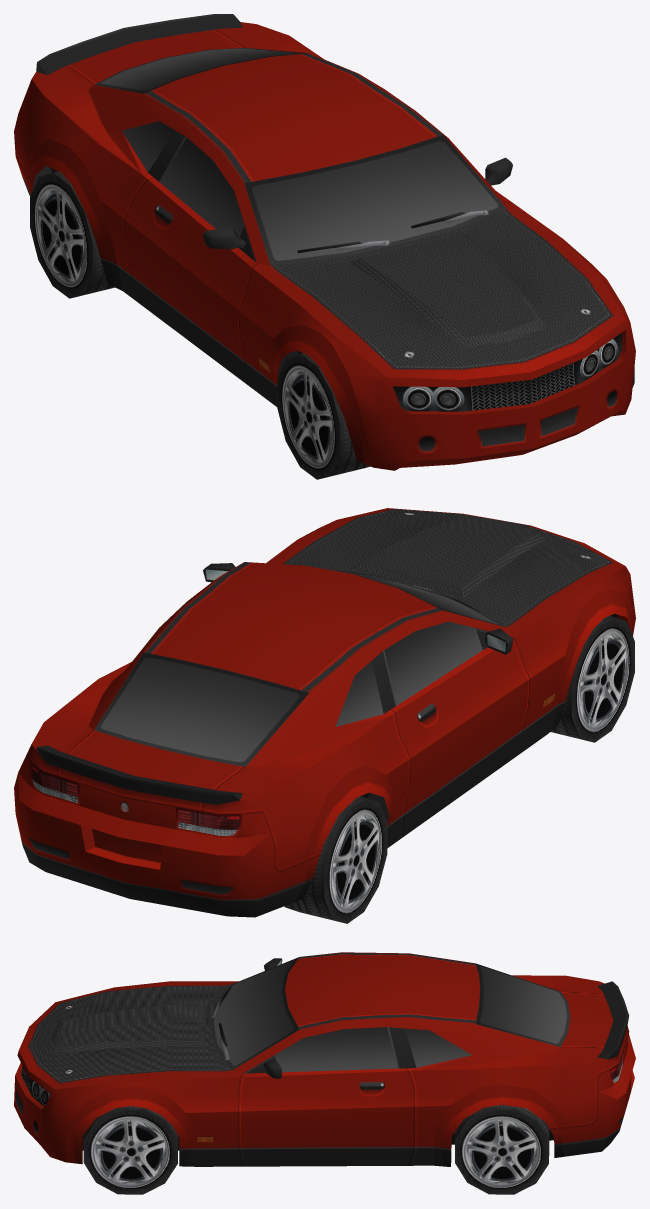
File: Modern_Muscle_Car_LOD1.fbx
3 renders of one model, top to bottom at view 1: azimuth 30°, elevation 25°; view 2: azimuth 150°, elevation 25°; view 3: azimuth 270°, elevation 25°, orthographic. The views are drawn at different scales.
Parts seen in each view (by area): view 1: Chassis, RF_Wheel, RR_Wheel; view 2: Chassis, RR_Wheel, RF_Wheel; view 3: Chassis, LR_Wheel, LF_Wheel.
Part boxes in pixels (x1=…): Chassis: x1=14, y1=14, x2=635, y2=470; RF_Wheel: x1=277, y1=353, x2=370, y2=479; RR_Wheel: x1=30, y1=171, x2=114, y2=298; Chassis: x1=14, y1=508, x2=635, y2=917; RR_Wheel: x1=284, y1=796, x2=387, y2=923; RF_Wheel: x1=551, y1=616, x2=634, y2=742; Chassis: x1=14, y1=952, x2=635, y2=1166; LR_Wheel: x1=455, y1=1105, x2=549, y2=1194; LF_Wheel: x1=83, y1=1106, x2=178, y2=1194.
Size of the model in its own units: 2.32 by 1.56 by 5.47.
2 materials, 2 textured.
